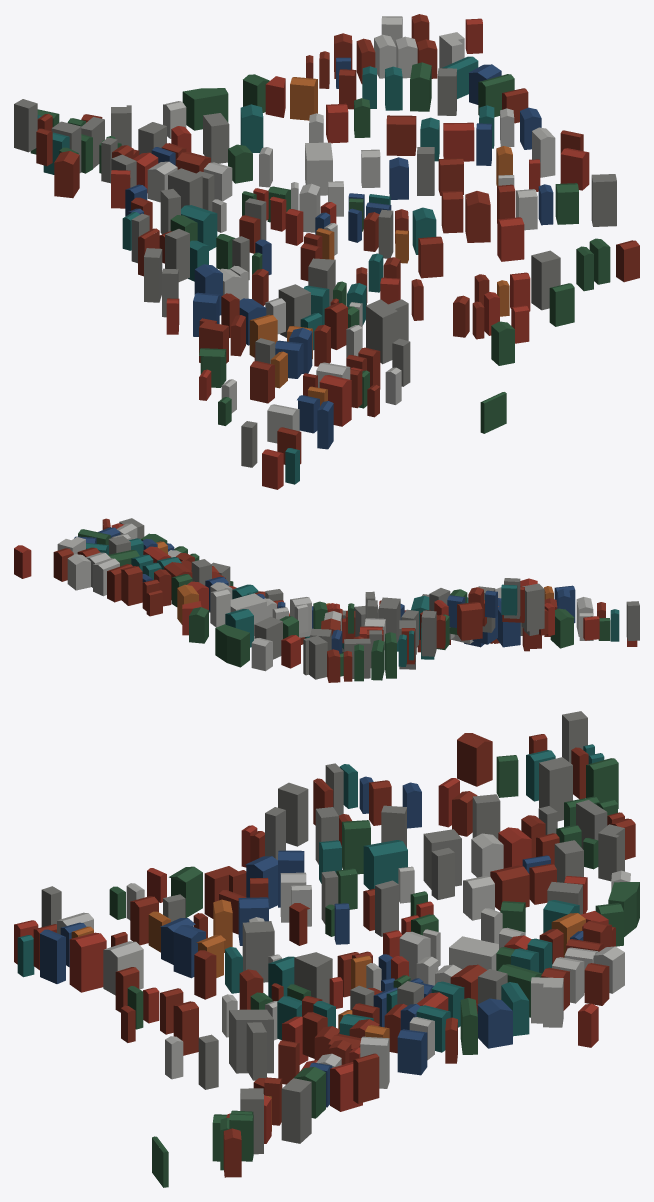
The model's file is near-17-109435-59476.8b2e2515.glb.
3 renders of one model, top to bottom at view 1: azimuth 30°, elevation 25°; view 2: azimuth 150°, elevation 25°; view 3: azimuth 270°, elevation 25°, orthographic. The views are drawn at different scales.
Bounding box in the file's own units: 308 × 159 × 298.
